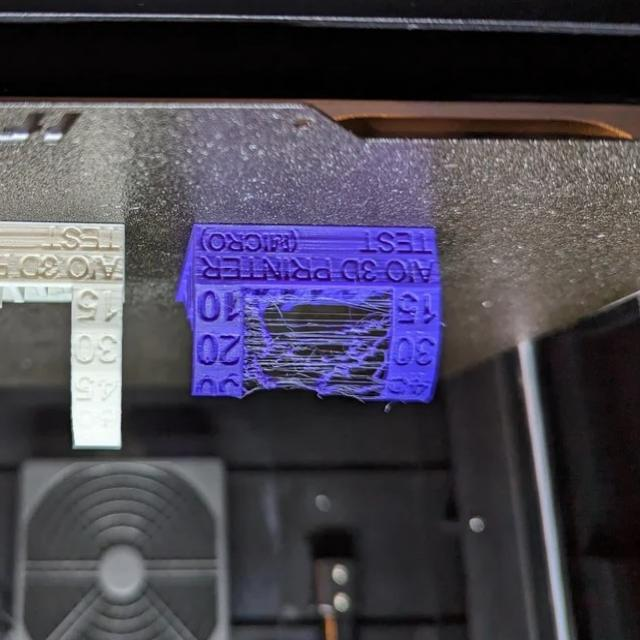Stringing: (242, 289, 396, 402)
